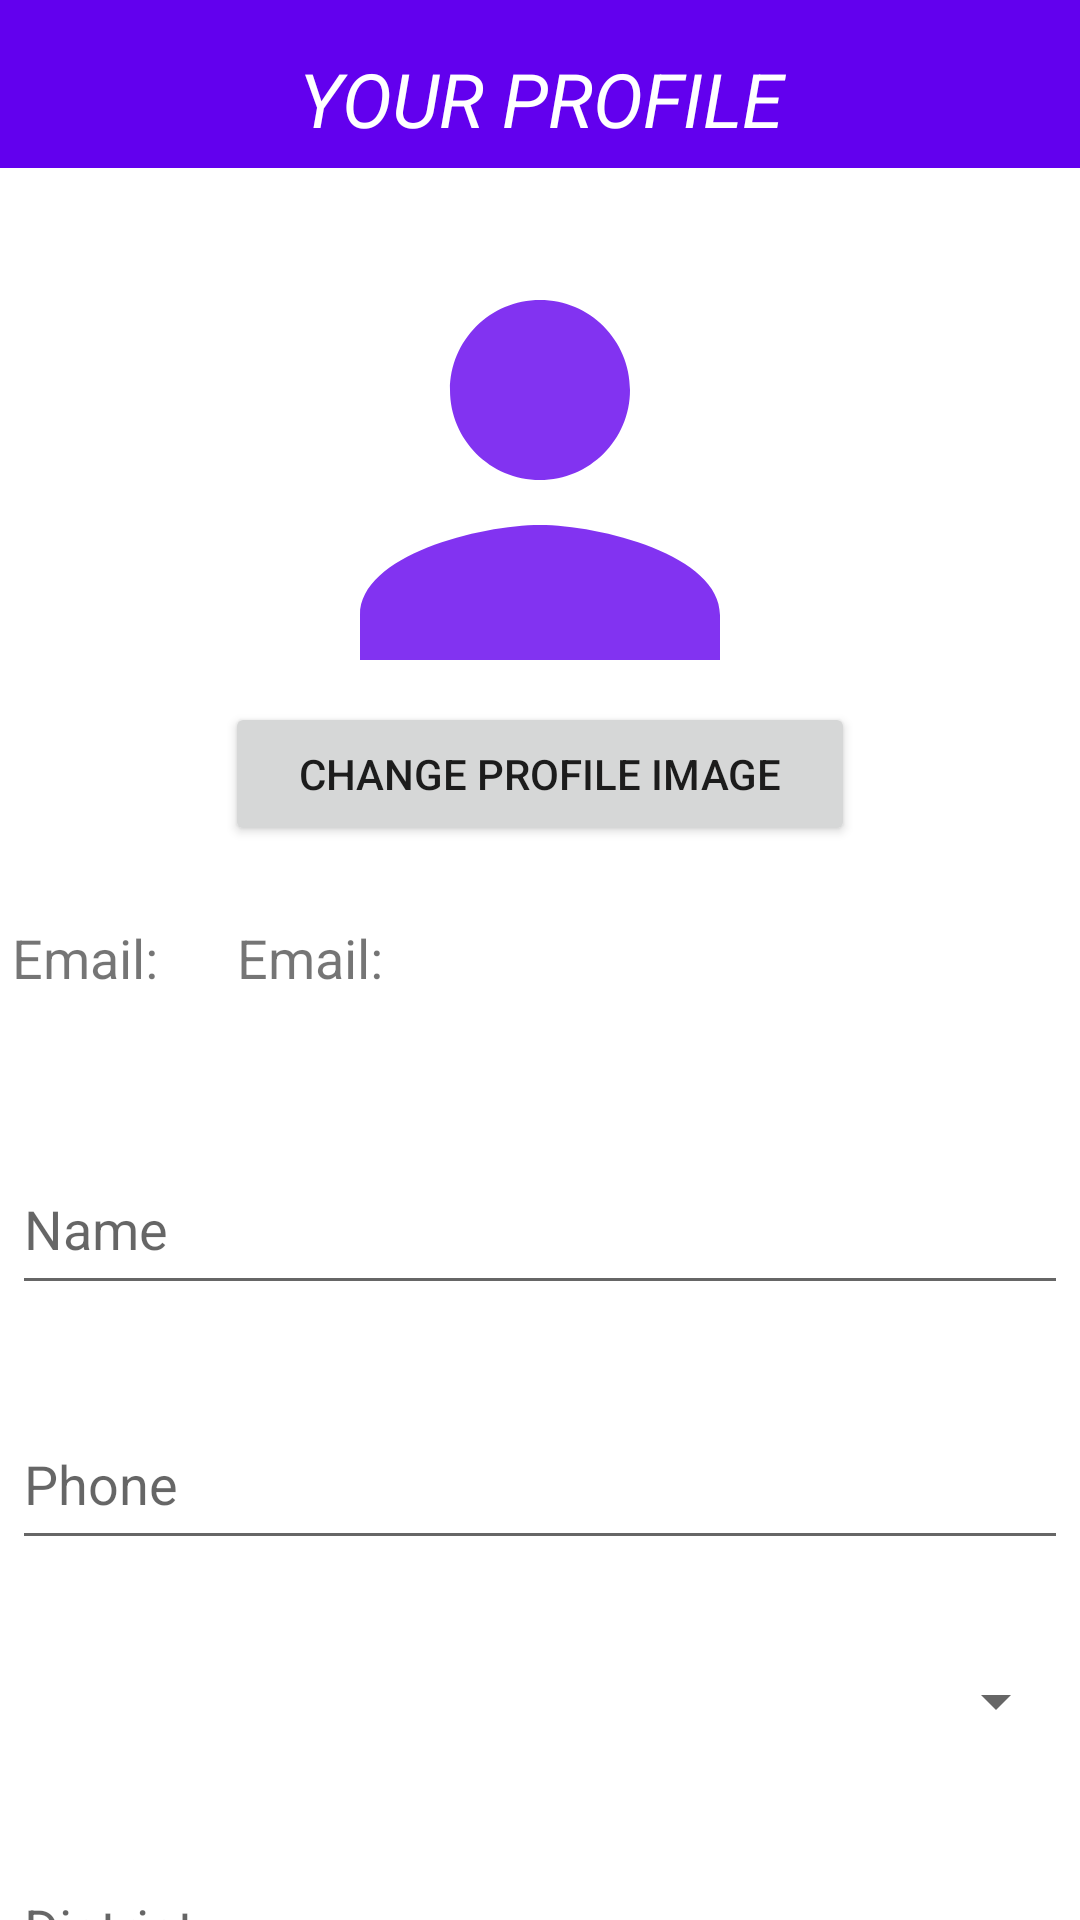

Where to tap for icons on this 1080px×1920px app screen, as (x,y):
profiletemp: (540,480)
